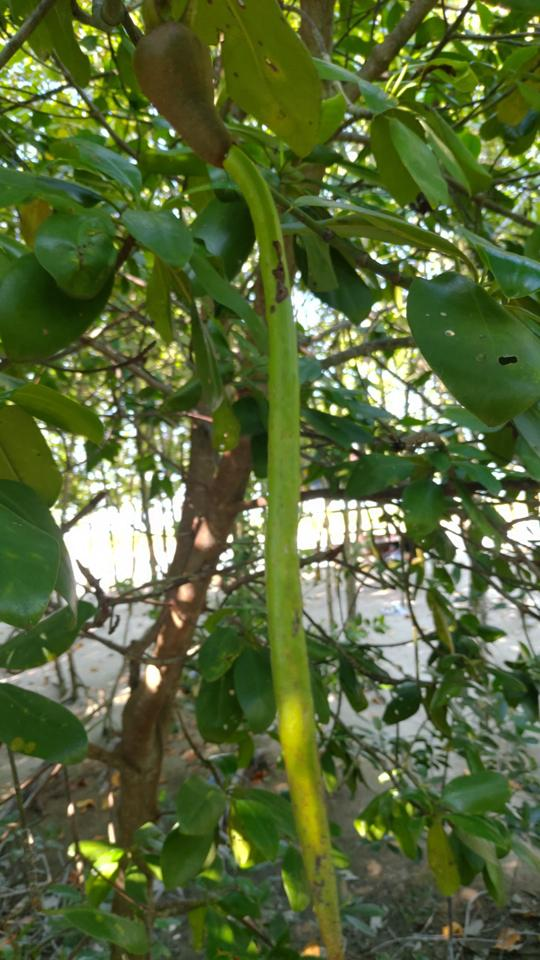mentah: (123, 14, 371, 956)
